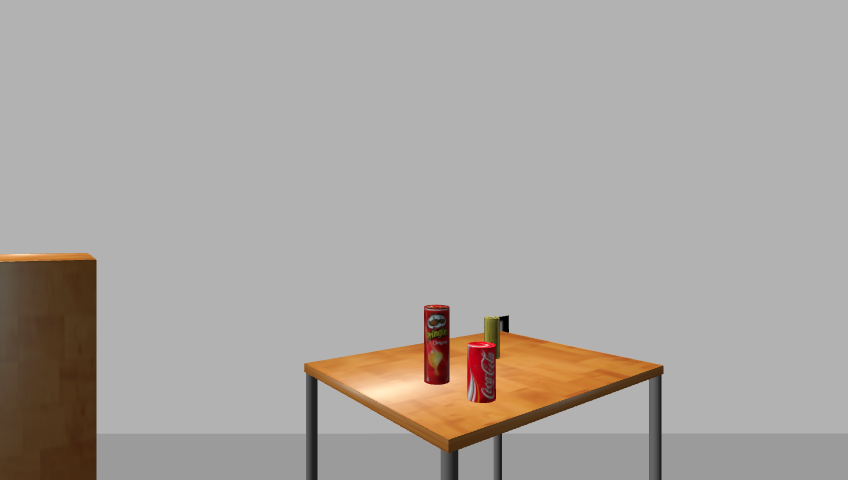aruco marker: (480, 315, 513, 337)
biscuits pack: (481, 316, 501, 356)
bookshelf: (0, 252, 104, 480)
coke can: (464, 341, 498, 403)
dinner table: (294, 332, 672, 480)
pringles can: (422, 304, 451, 387)
